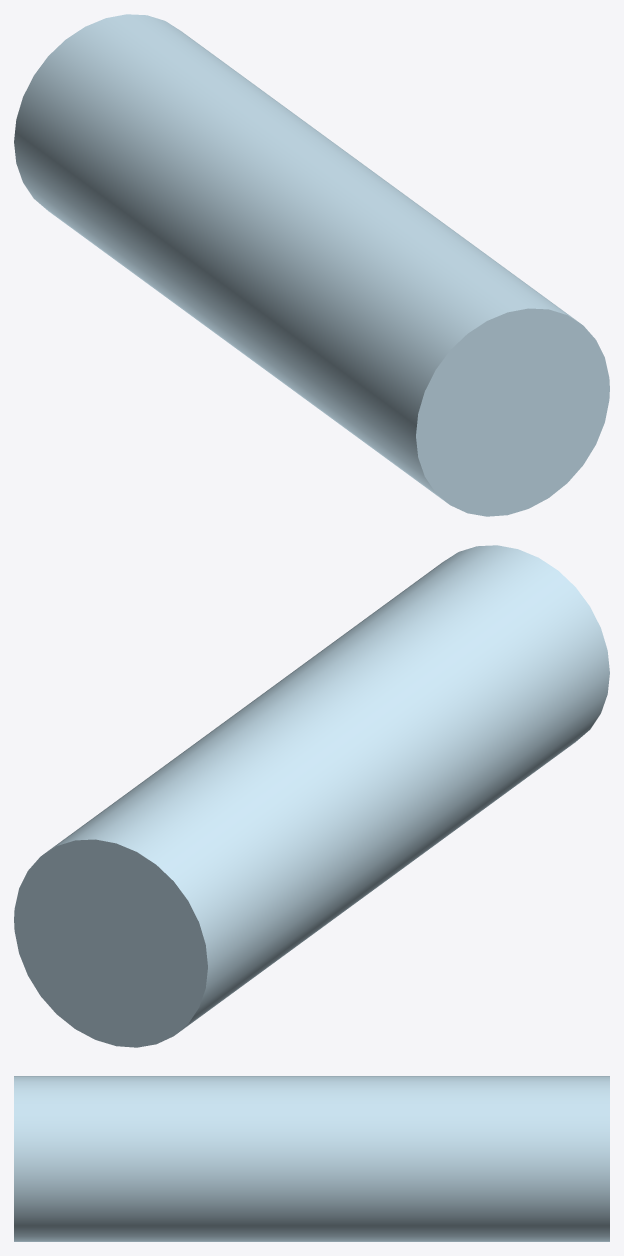
File: PLACEHOLDER_Rough_Green_Laser.gltf
The picture shows the model from 3 angles, top to bottom: view 1: azimuth 30°, elevation 25°; view 2: azimuth 150°, elevation 25°; view 3: azimuth 270°, elevation 25°; orthographic projection. The views are drawn at different scales.
Parts seen in each view (by area): view 1: mesh32794, mesh32793; view 2: mesh32794, mesh32795; view 3: mesh32794.
Part boxes in pixels (x1,y1,x2,y2): mesh32794: (14, 14, 580, 503); mesh32793: (416, 308, 609, 516); mesh32794: (43, 545, 609, 1034); mesh32795: (14, 839, 207, 1047); mesh32794: (14, 1076, 609, 1241).
Bounding box in the file's own units: 0.012 × 0.012 × 0.043.
